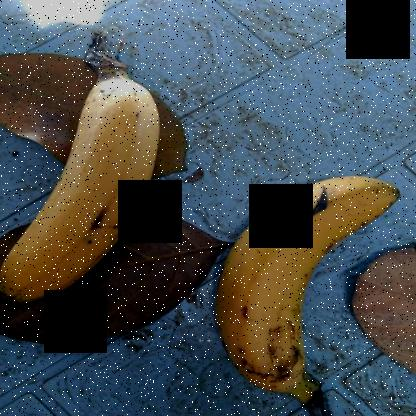freshripe: (1, 51, 187, 353)
ripe: (203, 176, 401, 400)
